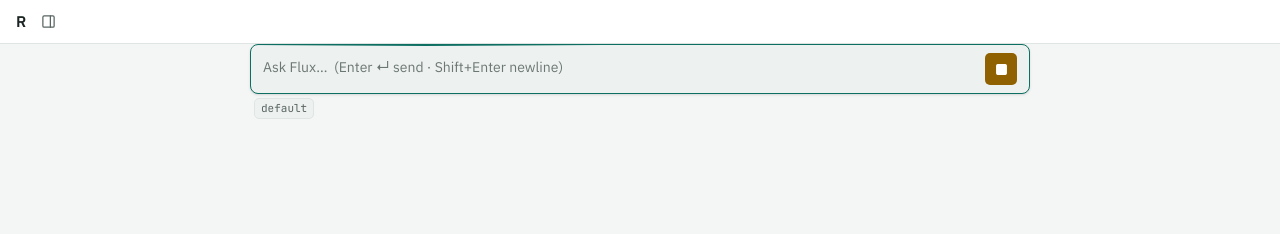
Test case: ChatView › the interrupt-send appends the user bubble immediately (server queues the turn)
Step 1. Type "after cancel" into the text box with placeholder "Ask Flux… (Enter ↵ send · Shift+Enter newline)" → (620, 71), box [263,57,977,85]
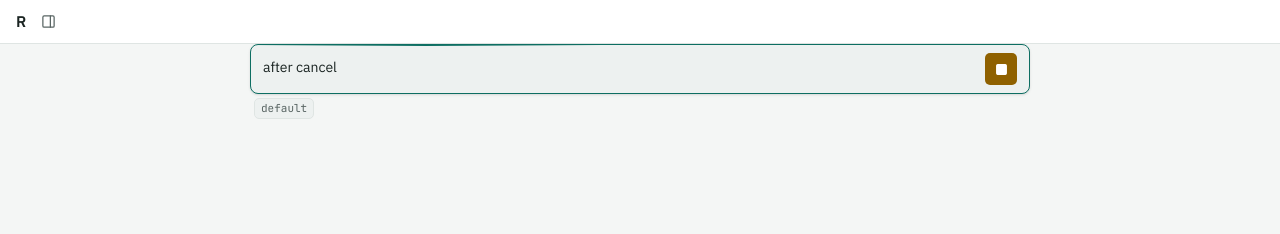
Step 2. Press Enter in the text box with placeholder "Ask Flux… (Enter ↵ send · Shift+Enter newline)", box [263,57,977,85]
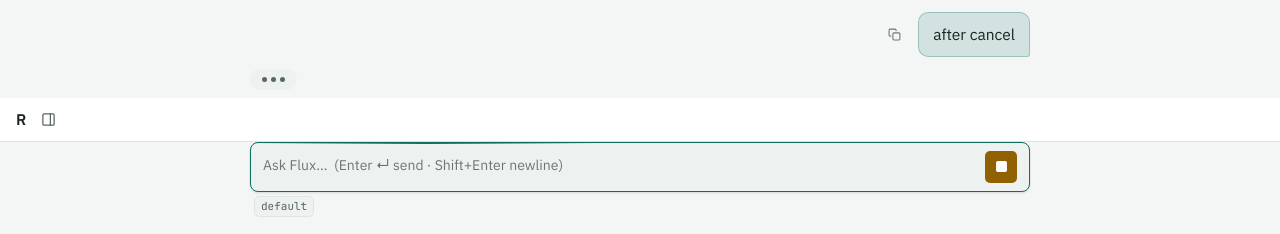
Expected: the element with class "user" reads "after cancel", [933,24,1015,44]
